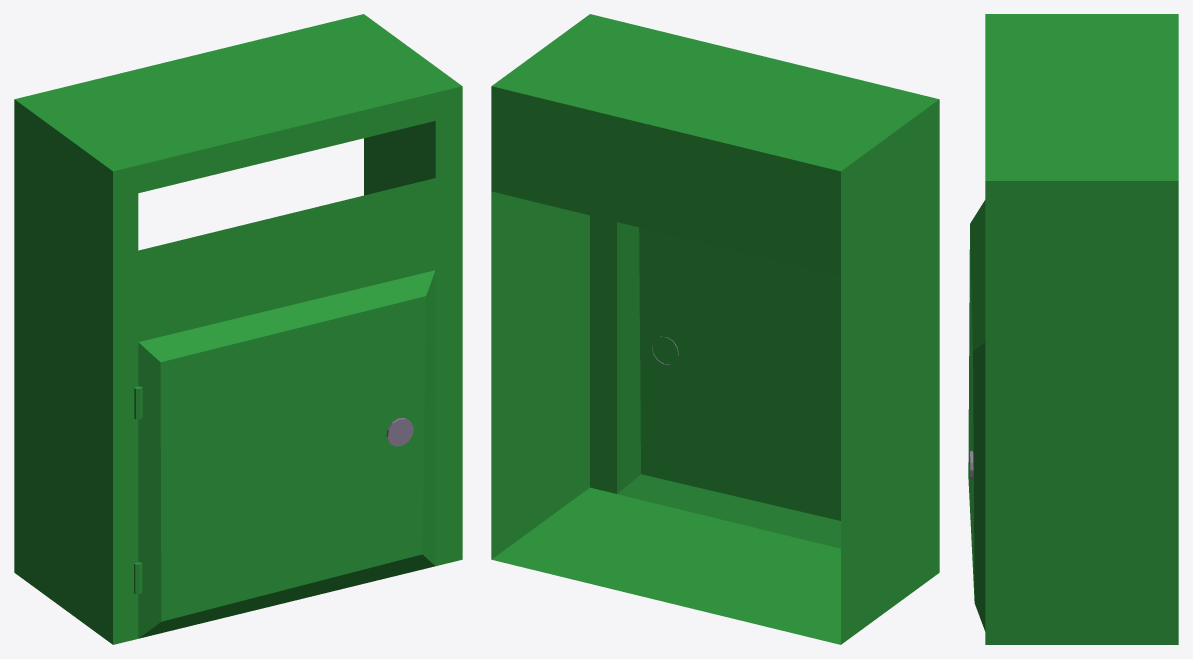
Rendered from Mailbox.fbx.
The picture shows the model from 3 angles, left to right: view 1: azimuth 30°, elevation 25°; view 2: azimuth 150°, elevation 25°; view 3: azimuth 270°, elevation 25°; orthographic projection. The views are drawn at different scales.
Visible parts, largest first — view 1: Buzon; view 2: Buzon; view 3: Buzon.
Part boxes in pixels (box(x1,y1,x2,y2)): Buzon: box(14, 14, 462, 644); Buzon: box(491, 14, 939, 644); Buzon: box(968, 14, 1178, 644).
Size of the model in its own units: 30.92 by 40.05 by 16.44.
